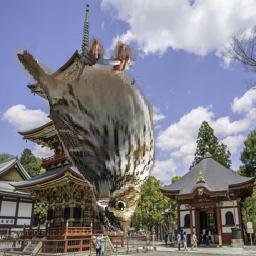Sparrow: (15, 36, 159, 236)
